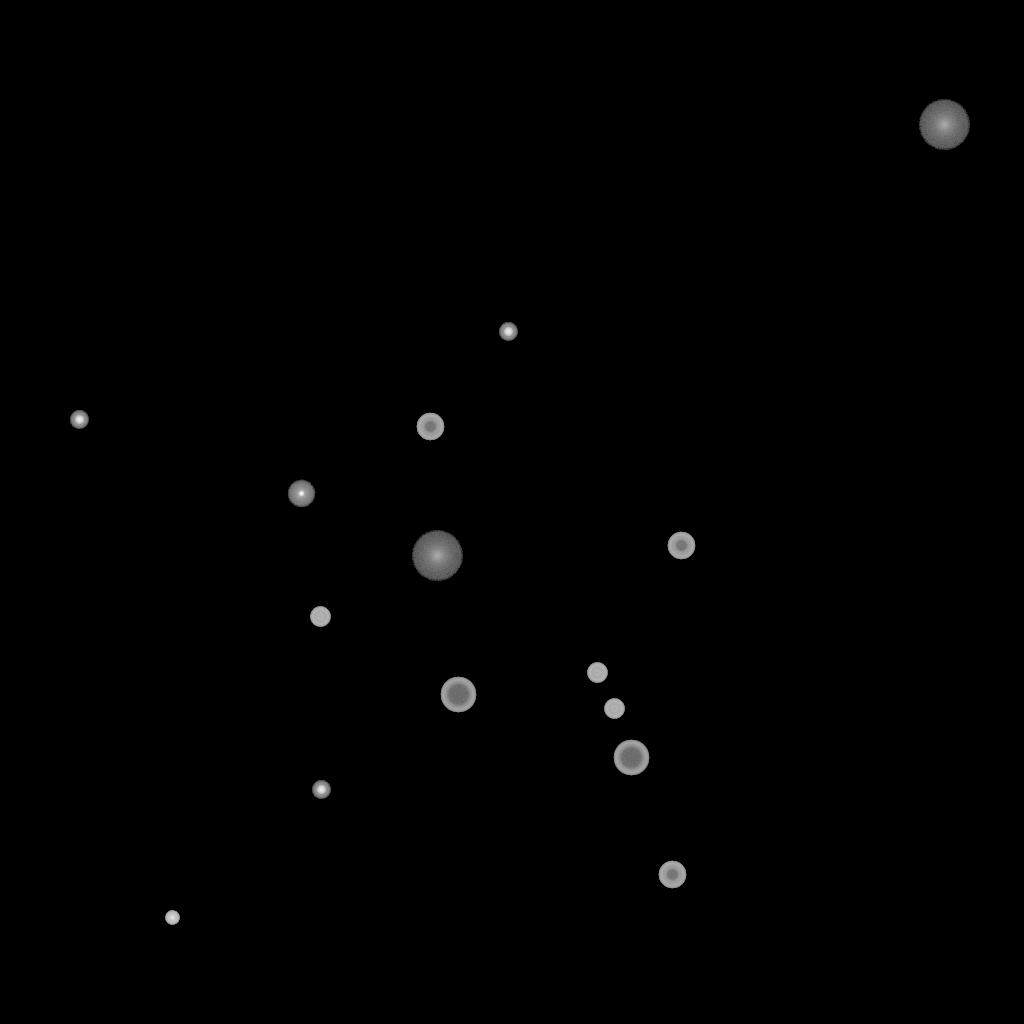depth:-10: (287, 480, 315, 508)
depth:-20: (312, 781, 330, 799), (499, 323, 517, 341), (70, 411, 88, 429)
depth:-30: (165, 911, 179, 925)
depth:-40: (310, 607, 330, 627), (587, 663, 607, 683), (604, 699, 624, 719)
depth:-50: (416, 413, 444, 441), (667, 532, 695, 560), (658, 861, 686, 889)
depth:-60: (440, 677, 476, 713), (613, 740, 649, 776)
depth:20: (411, 531, 463, 581), (918, 100, 970, 150)
